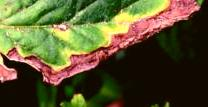Tomato leaf bacterial spot: (0, 0, 202, 88)
